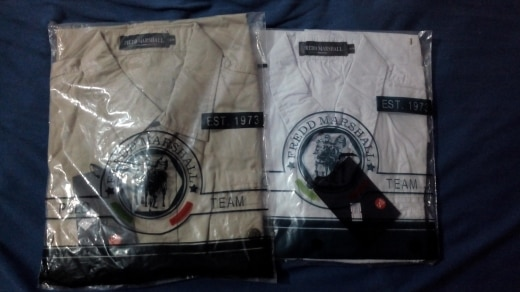shirts: (39, 27, 258, 257), (224, 25, 433, 243)
